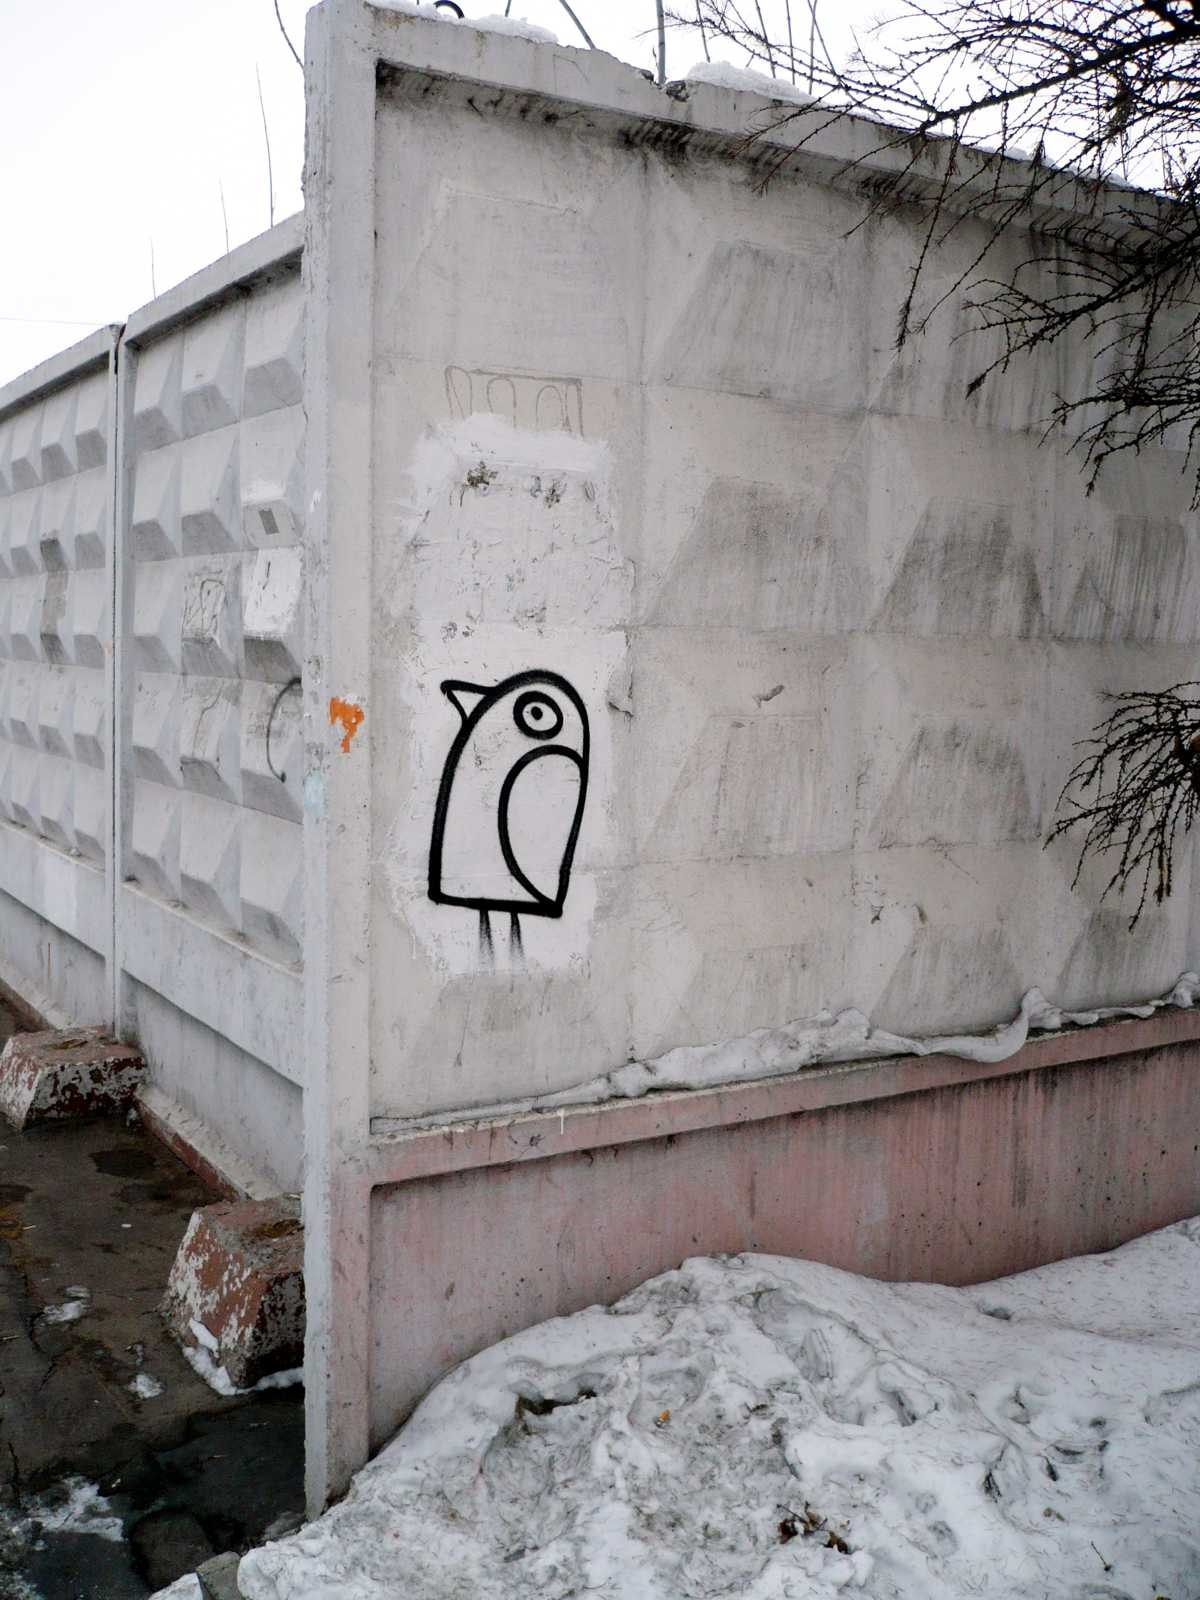graphite: (424, 653, 611, 956)
